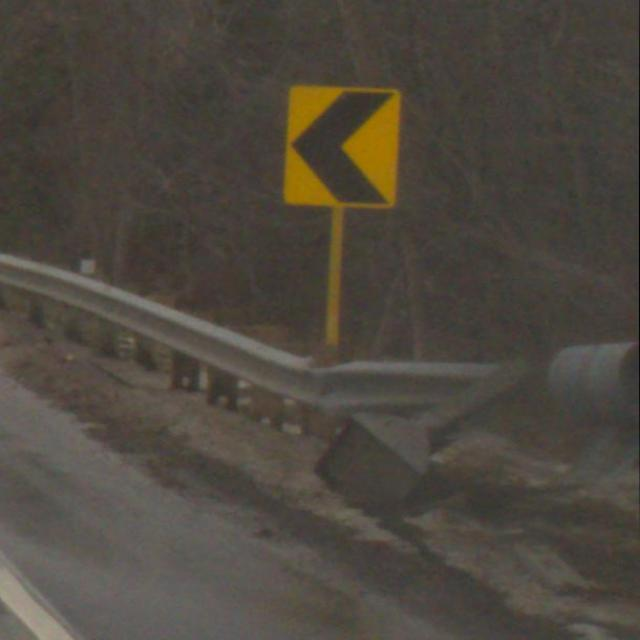Guard rail: (0, 245, 536, 443)
